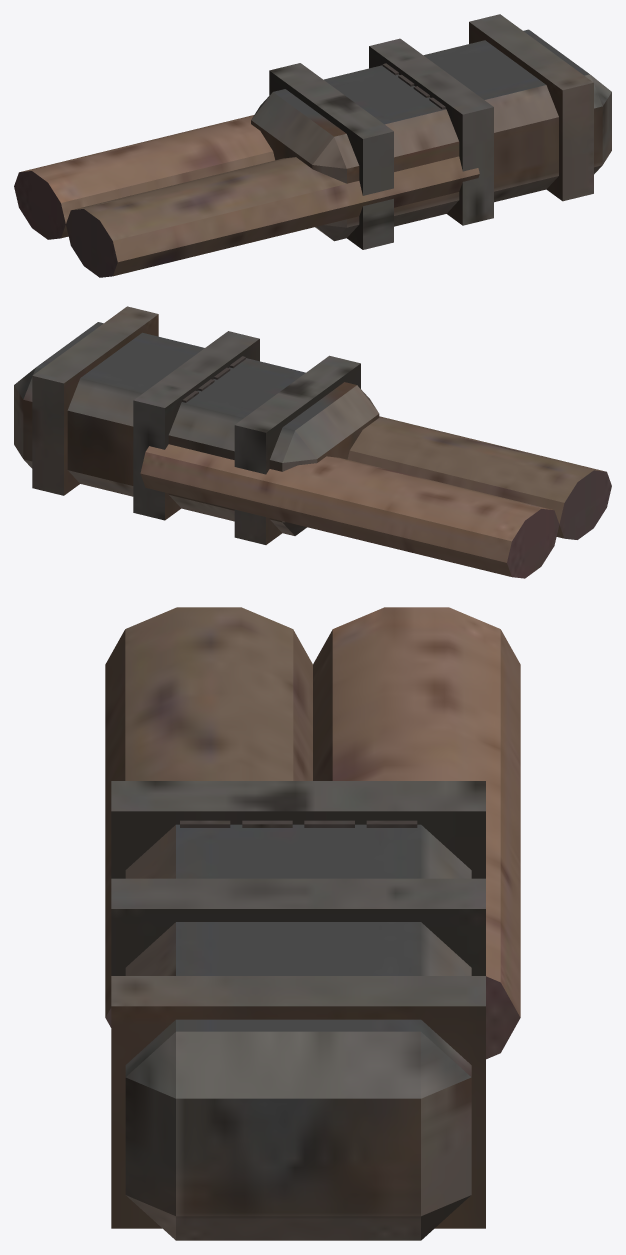
The model's file is heat-pipe-ending-left.glb.
3 renders of one model, top to bottom at view 1: azimuth 30°, elevation 25°; view 2: azimuth 150°, elevation 25°; view 3: azimuth 270°, elevation 25°, orthographic. The views are drawn at different scales.
Parts seen in each view (by area): view 1: body; view 2: body; view 3: body.
Boxes of the visible parts, box(x1,y1,x2,y2) form: body: box(14, 14, 611, 277); body: box(14, 306, 611, 578); body: box(105, 607, 520, 1240).
Size of the model in its own units: 0.82 by 0.17 by 0.288.
1 material, 1 textured.
